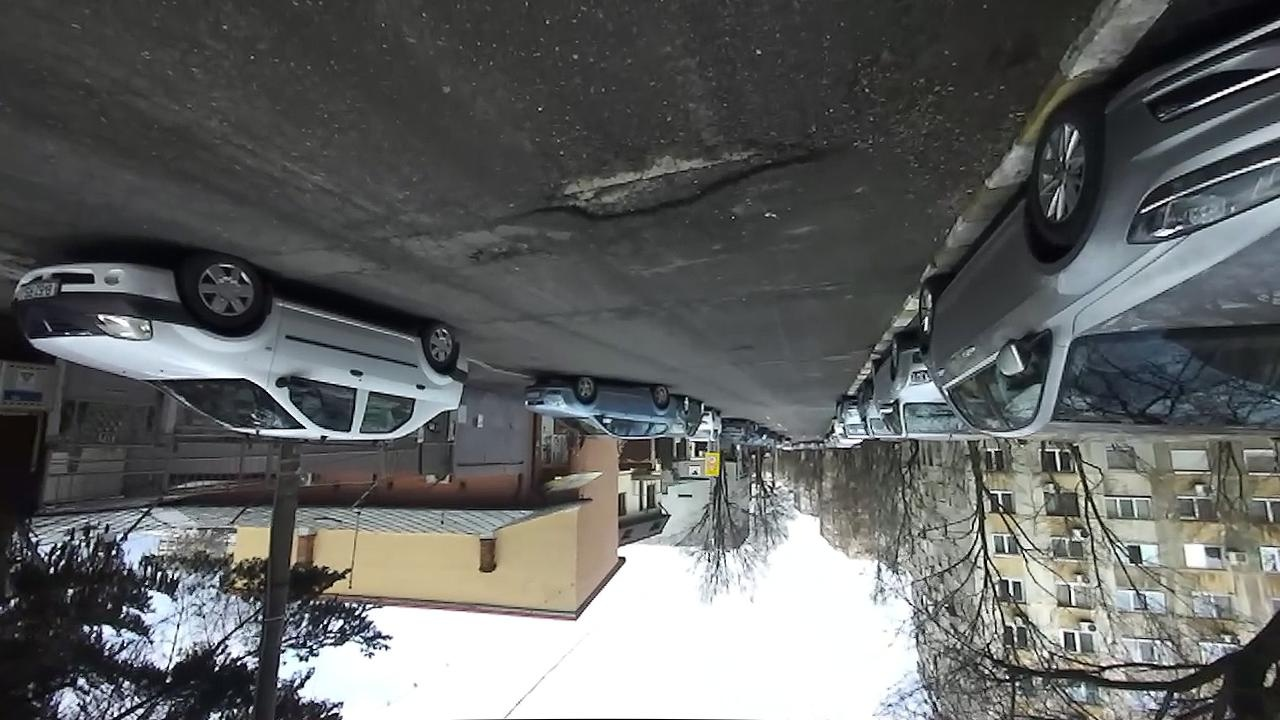pothole: (499, 134, 829, 226), (461, 238, 541, 270)
